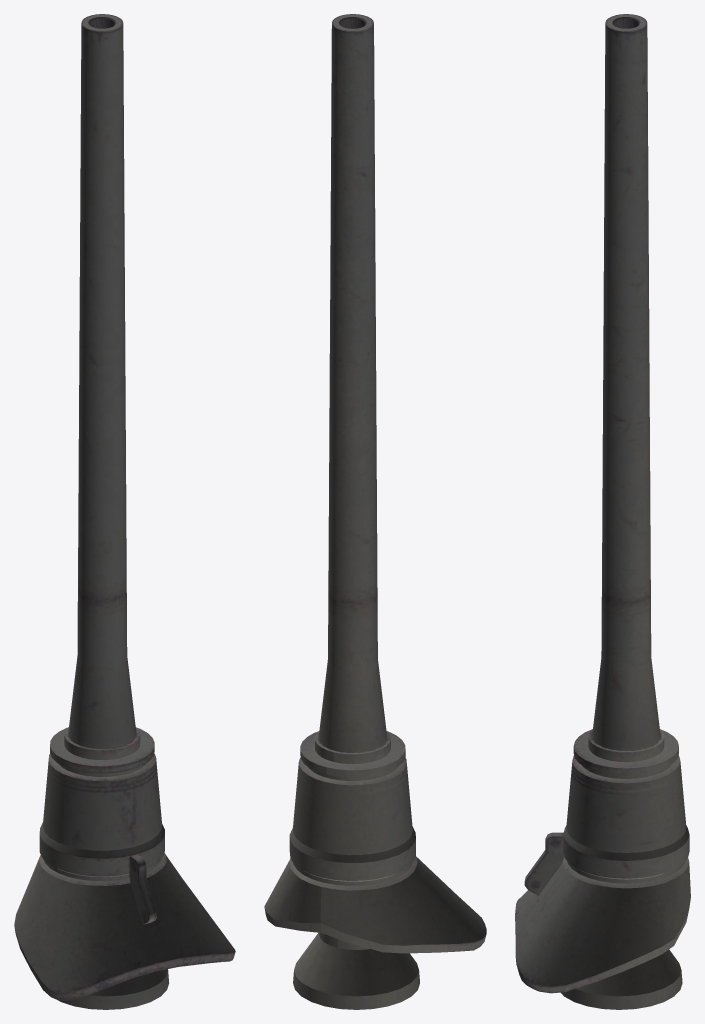
The model's file is Gun_03.glb.
The picture shows the model from 3 angles, left to right: view 1: azimuth 30°, elevation 25°; view 2: azimuth 150°, elevation 25°; view 3: azimuth 270°, elevation 25°; orthographic projection.
Parts seen in each view (by area): view 1: set_0_group_0; view 2: set_0_group_0; view 3: set_0_group_0.
Part boxes in pixels (left/top/right/bottom): set_0_group_0: left=14, top=14, right=235, bottom=1009; set_0_group_0: left=264, top=14, right=486, bottom=1009; set_0_group_0: left=515, top=14, right=690, bottom=1009.
Size of the model in its own units: 1.04 by 5.22 by 0.8662.
Materials: 1 (1 with a texture image).
